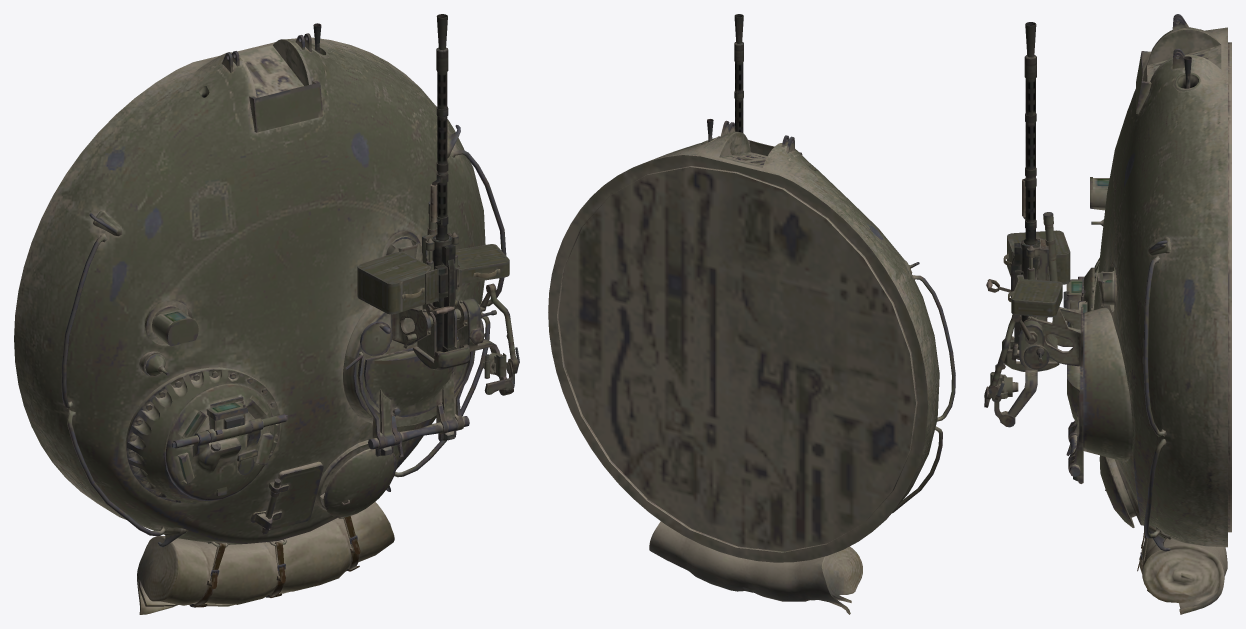
Rendered from Turret_01.glb.
3 renders of one model, left to right at view 1: azimuth 30°, elevation 25°; view 2: azimuth 150°, elevation 25°; view 3: azimuth 270°, elevation 25°, orthographic. The views are drawn at different scales.
Parts seen in each view (by area): view 1: set_0_group_0; view 2: set_0_group_0; view 3: set_0_group_0.
Part boxes in pixels (x1,y1,x2,y2): set_0_group_0: (14, 14, 519, 614); set_0_group_0: (548, 14, 955, 614); set_0_group_0: (984, 14, 1231, 614).
Bounding box in the file's own units: 2.7 × 3.46 × 1.29.
1 material, 1 textured.
